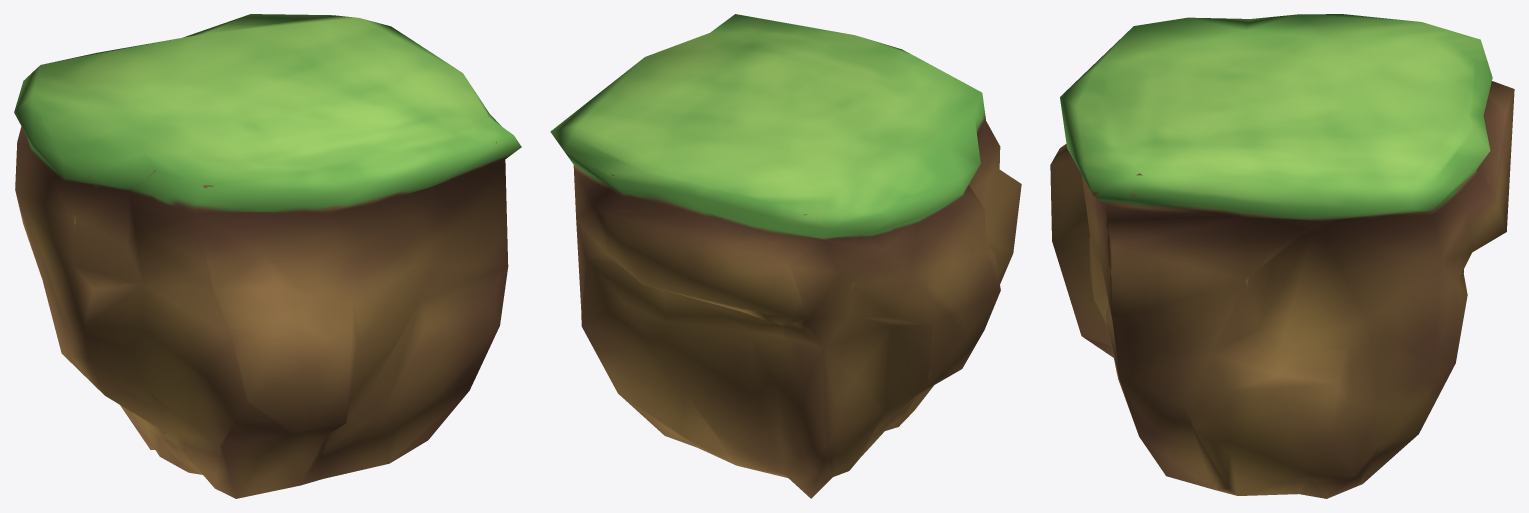
The model's file is rock1.fbx.
3 views of the same model, side by side, from view 1: azimuth 30°, elevation 25°; view 2: azimuth 150°, elevation 25°; view 3: azimuth 270°, elevation 25° (orthographic). The views are drawn at different scales.
Visible parts, largest first — view 1: rock1LP; view 2: rock1LP; view 3: rock1LP.
Part boxes in pixels (x1,y1,x2,y2): rock1LP: [14, 14, 521, 498]; rock1LP: [550, 14, 1021, 498]; rock1LP: [1050, 14, 1514, 498].
Size of the model in its own units: 791 by 703 by 790.
1 material, 1 textured.
